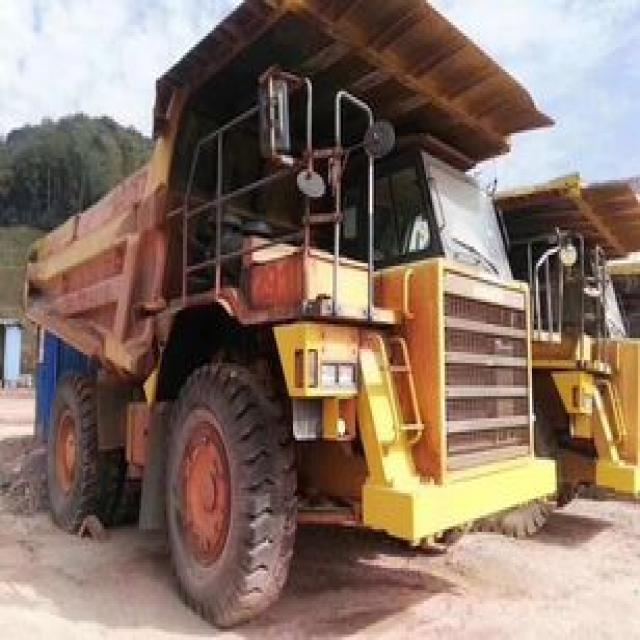dump_truck: (28, 0, 547, 621), (517, 172, 640, 490)
